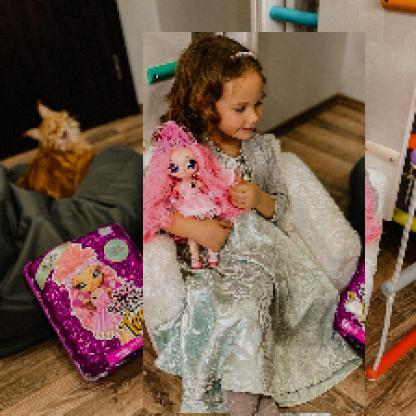child: (144, 33, 367, 415)
